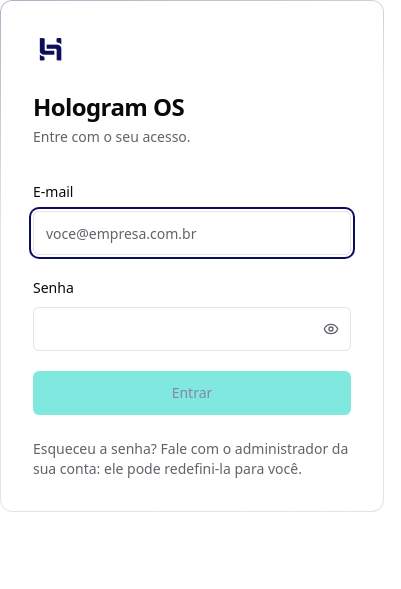
Test: LoginPage — validação do e-mail (86e2n39eg) › 429 mostra a mensagem do servidor, que sabe a janela do limite (86e3anx10)
Type "ana@hologram.com.br" into the field labelled "E-mail" at (192,233), box x1=33 y1=211 x2=351 y2=255
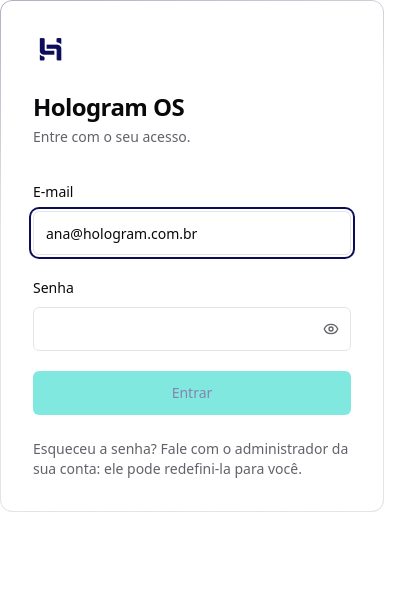
Type "qualquer" into the password field labelled "Senha" at (192,329), box x1=33 y1=307 x2=351 y2=351
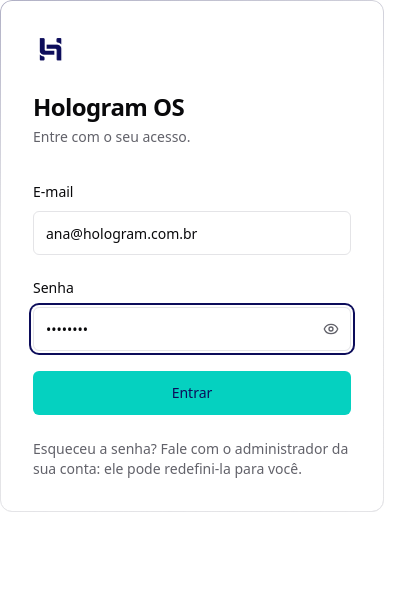
Click the button "Entrar" at (192,393), box x1=33 y1=371 x2=351 y2=415
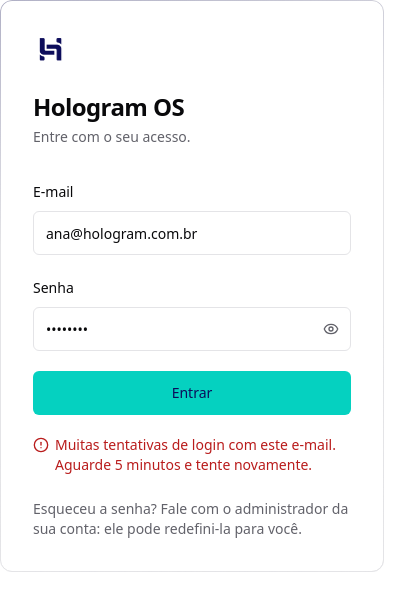
expect the message does not show "1 minuto": met, box x1=33 y1=435 x2=351 y2=475
expect the message reads "Muitas tentativas de login com este e-mail. Aguarde 5 minutos e tente novamente.": met, box x1=55 y1=435 x2=336 y2=474
